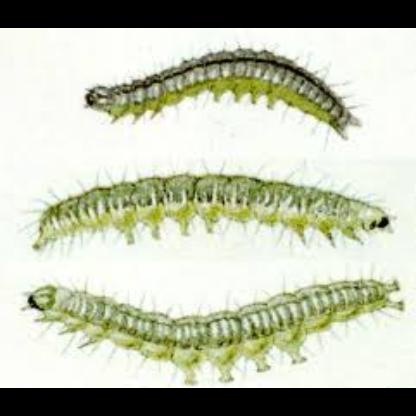oruga: (23, 272, 407, 384), (89, 51, 378, 149), (34, 173, 388, 250)
